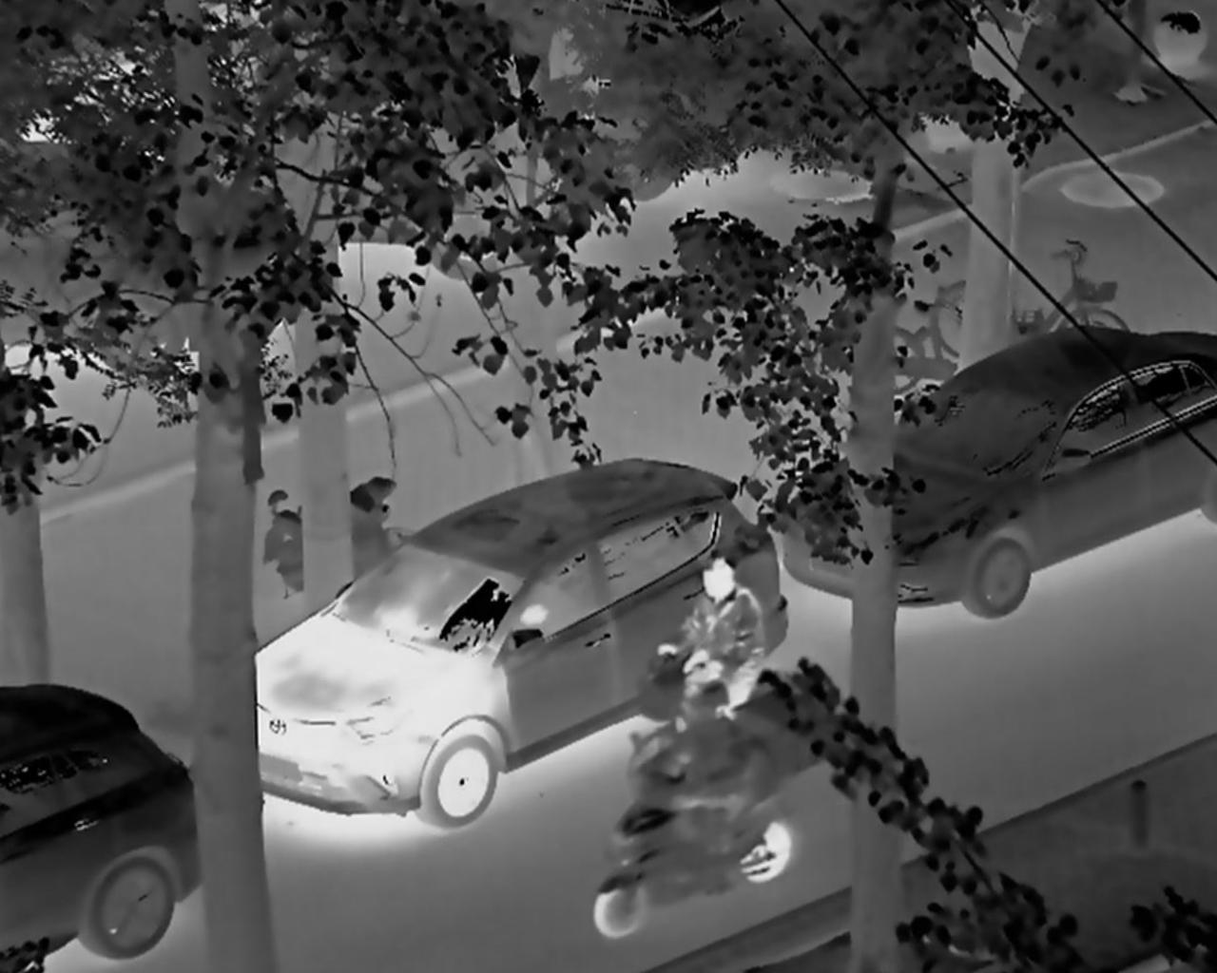person: (611, 699, 802, 925), (647, 546, 767, 713)
